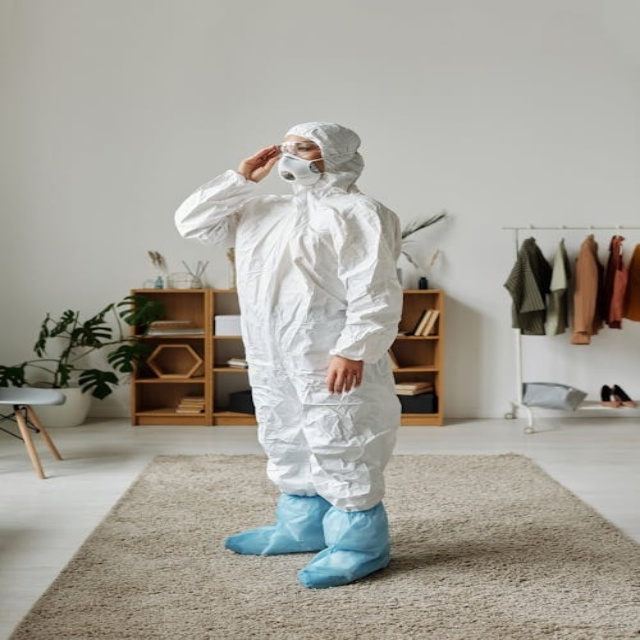Gafas: (279, 141, 328, 155)
Mascara: (277, 152, 324, 185)
Sin_guantes: (237, 144, 282, 182), (325, 355, 365, 397)
